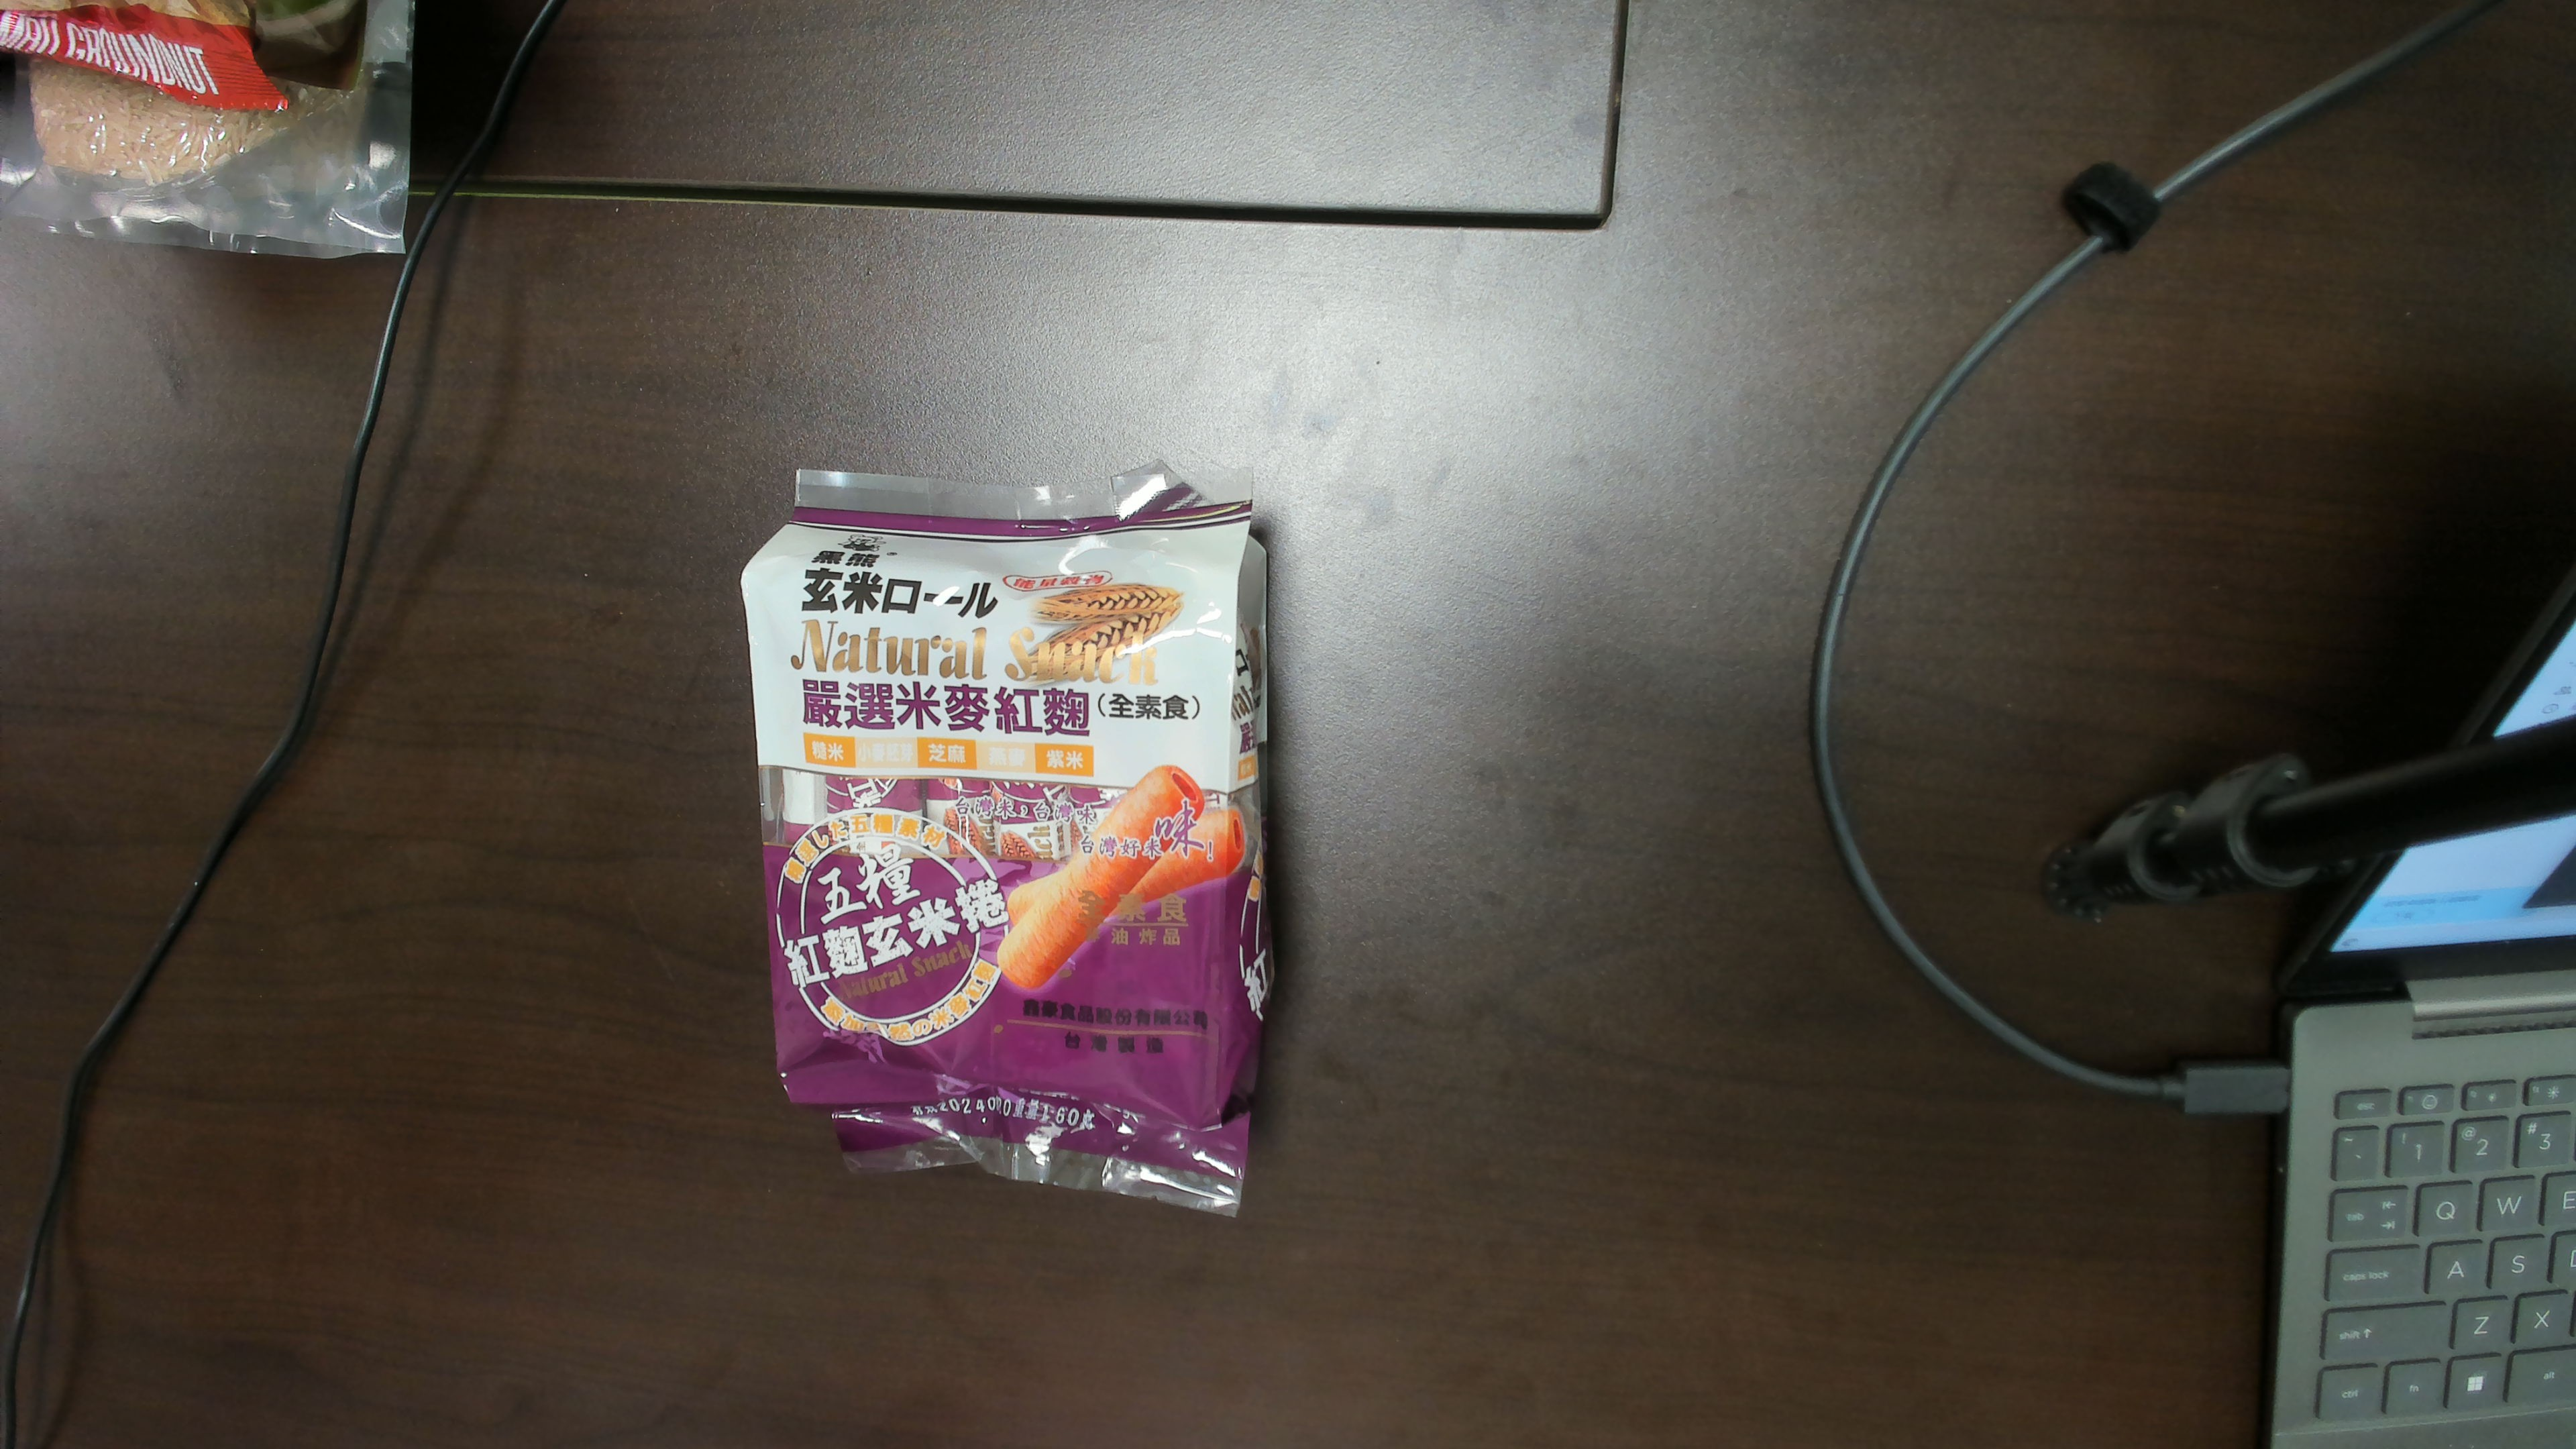BiscuitsCrackersCookies_100-199g_NonHalal_NonHealthy: (771, 568, 1221, 1070)
